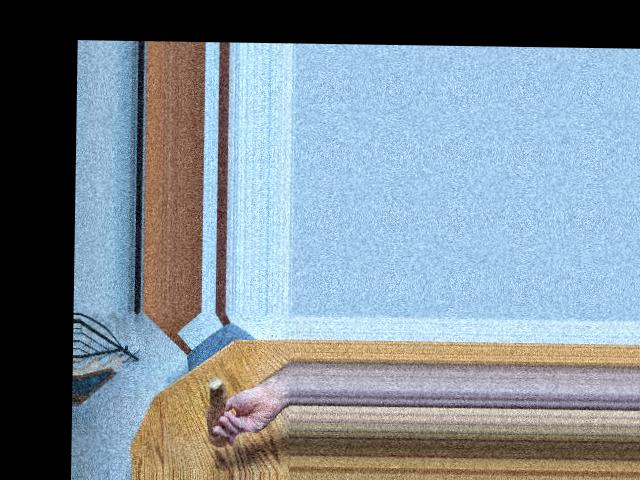sweet_potato: (205, 377, 234, 448)
